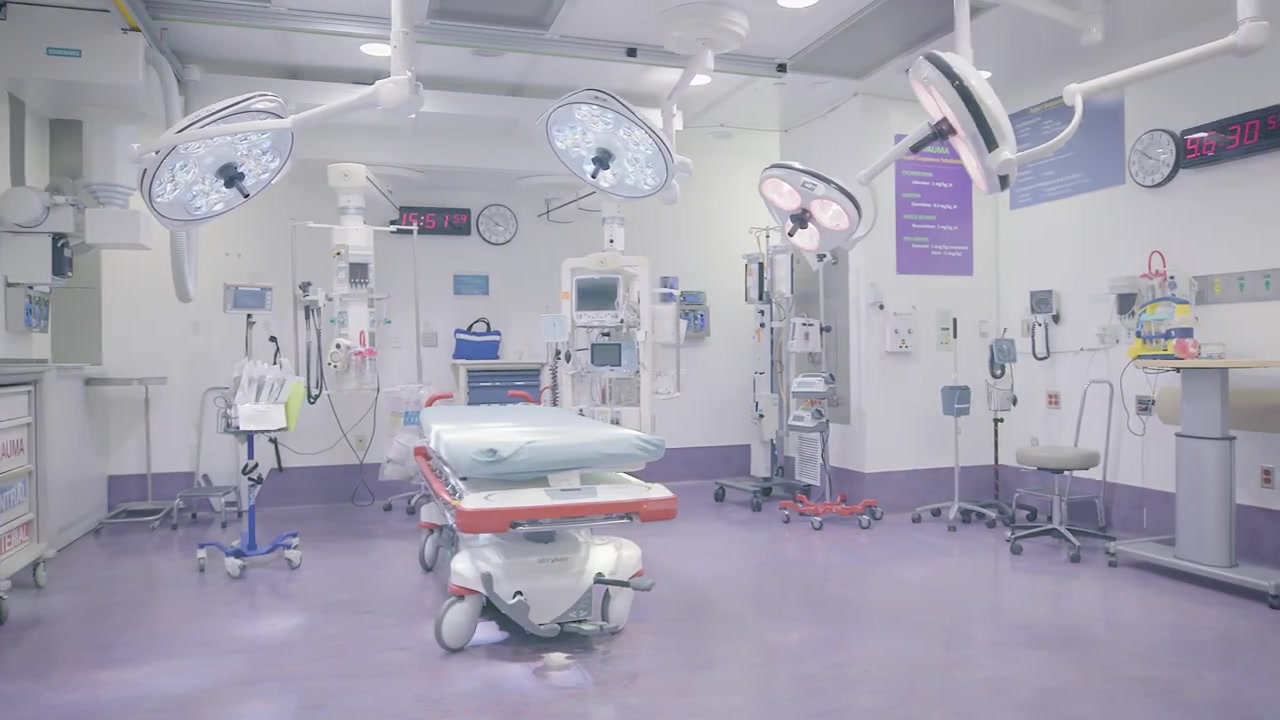bedside_monitor: (571, 275, 624, 327), (223, 282, 273, 314), (588, 341, 622, 373)
chair: (1006, 444, 1116, 563)
dispenser: (682, 293, 709, 340), (659, 278, 680, 305)
iv_pole: (749, 226, 781, 482), (410, 221, 429, 491)
medical_drawer: (1, 363, 58, 627), (453, 361, 565, 412)
medical_waste_container: (887, 310, 921, 353)
operating_bed: (418, 390, 678, 654)
overbed_table: (1110, 359, 1280, 611)
surgical_light: (136, 91, 294, 232), (905, 50, 1018, 195), (536, 87, 676, 203), (758, 162, 862, 271)
utility_cart: (87, 371, 186, 540)
